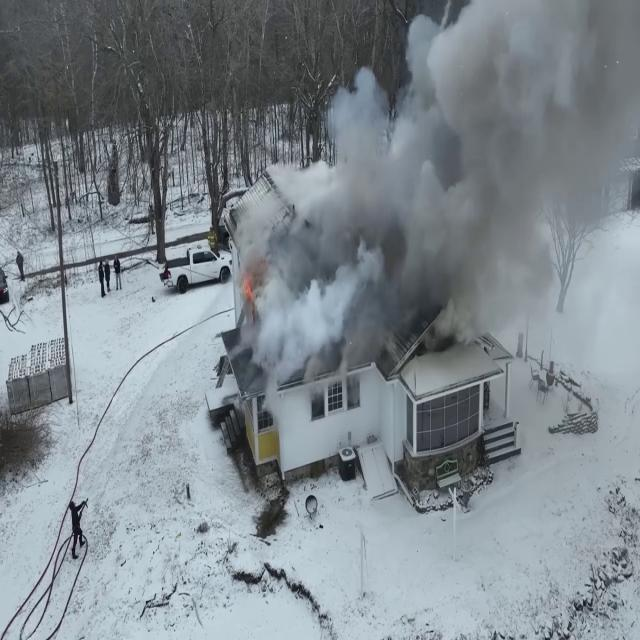Smoke: (231, 1, 629, 369)
